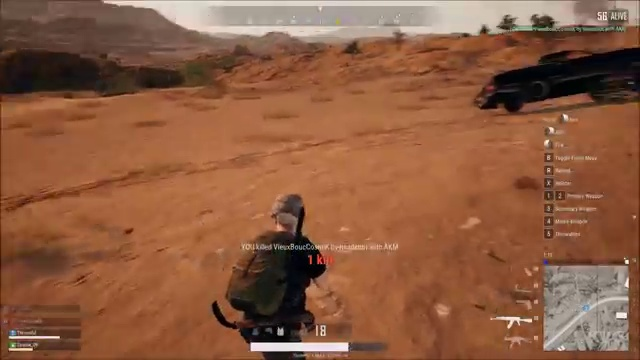Player: (205, 179, 350, 317)
